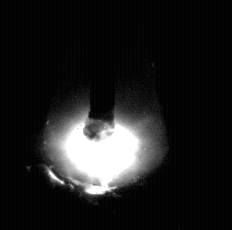arame: (90, 0, 116, 140)
poca: (43, 0, 168, 230)
